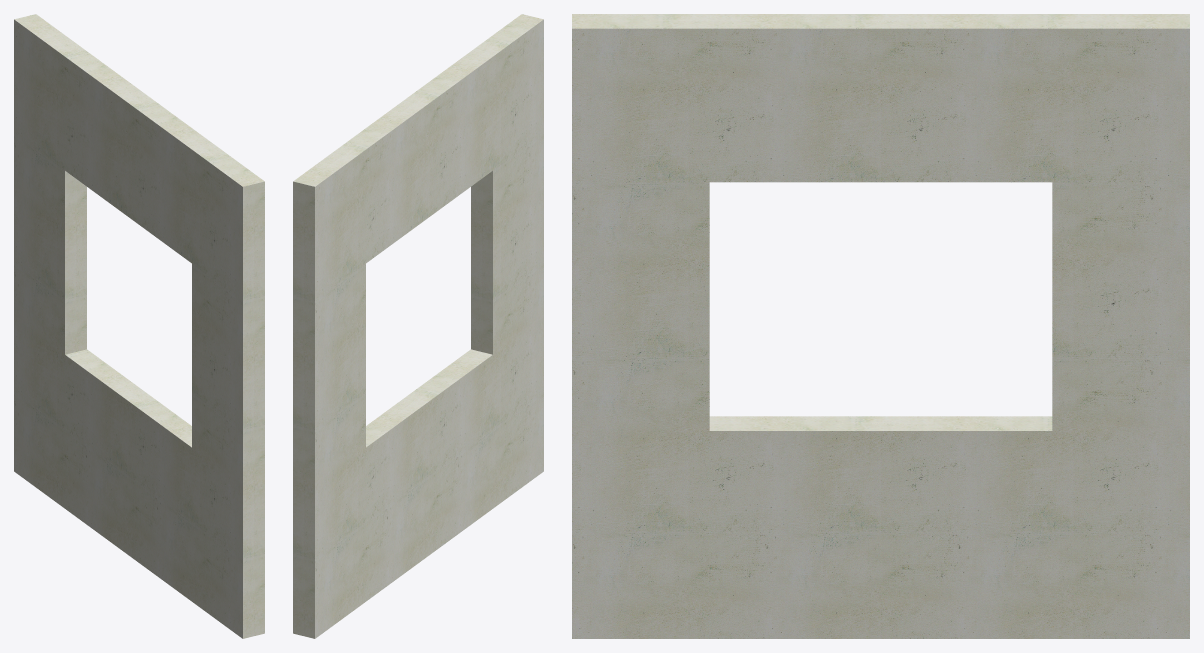
The model's file is soupwindwall027.glb.
3 views of the same model, side by side, from view 1: azimuth 30°, elevation 25°; view 2: azimuth 150°, elevation 25°; view 3: azimuth 270°, elevation 25° (orthographic). The views are drawn at different scales.
Visible parts, largest first — view 1: soupwindwall027_high_1; view 2: soupwindwall027_high_1; view 3: soupwindwall027_high_1.
Boxes of the visible parts, x1,y1,x2,y2 form: soupwindwall027_high_1: (14, 14, 264, 638); soupwindwall027_high_1: (293, 14, 543, 638); soupwindwall027_high_1: (572, 14, 1189, 638).
Size of the model in its own units: 0.1504 by 2.95 by 2.7.
Materials: 1 (1 with a texture image).
